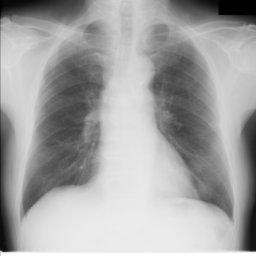left lobe: (146, 24, 233, 218)
right lobe: (24, 22, 111, 214)
